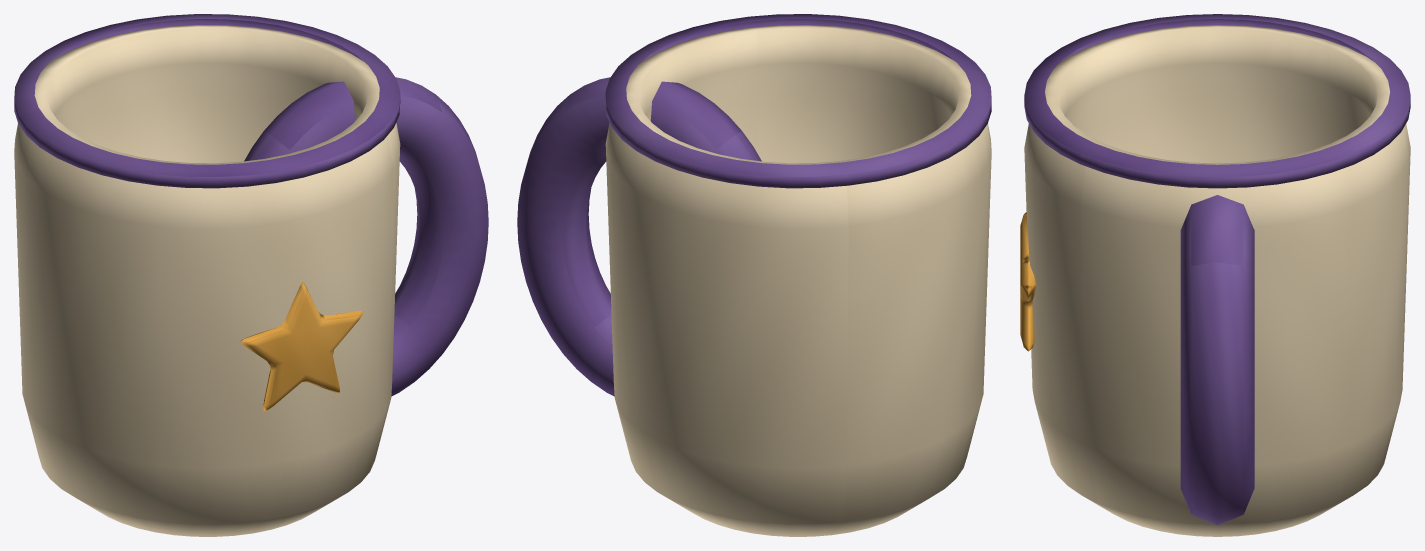
File: V5_Mug.fbx
3 renders of one model, left to right at view 1: azimuth 30°, elevation 25°; view 2: azimuth 150°, elevation 25°; view 3: azimuth 270°, elevation 25°, orthographic.
Parts seen in each view (by area): view 1: V5_Mug; view 2: V5_Mug; view 3: V5_Mug.
Boxes of the visible parts, x1,y1,x2,y2 form: V5_Mug: (14, 14, 488, 536); V5_Mug: (517, 14, 991, 536); V5_Mug: (1020, 14, 1410, 536).
Bounding box in the file's own units: 0.125 × 0.105 × 0.095.
1 material, 1 textured.
